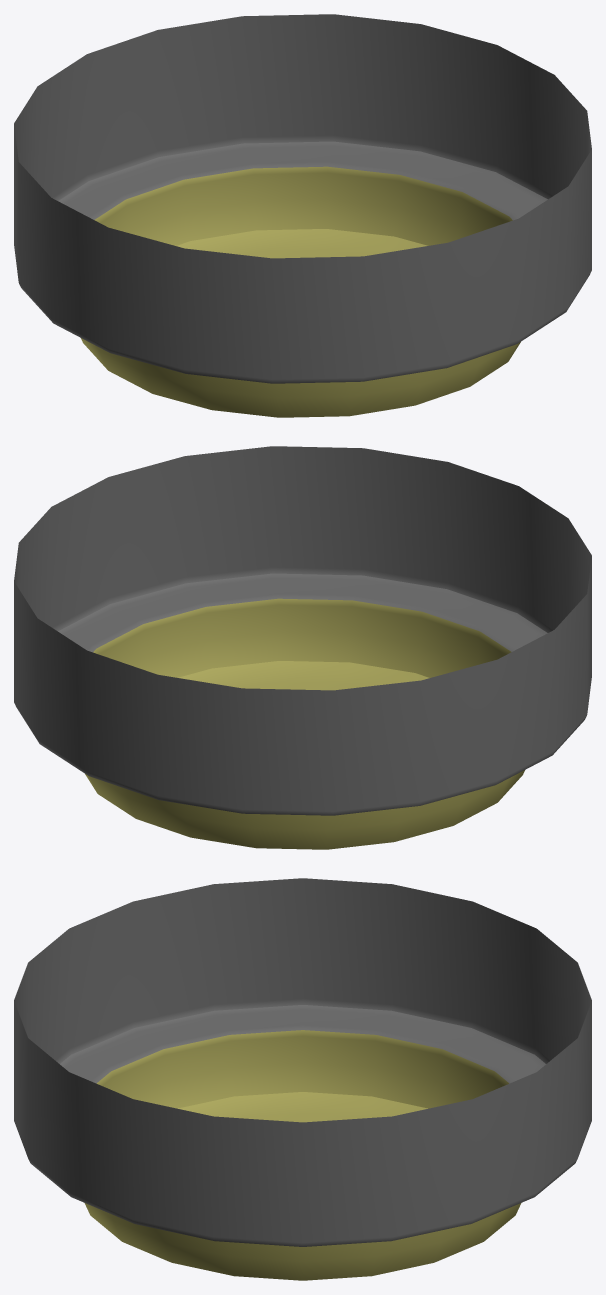
File: ceiling_light01.fbx
3 renders of one model, top to bottom at view 1: azimuth 30°, elevation 25°; view 2: azimuth 150°, elevation 25°; view 3: azimuth 270°, elevation 25°, orthographic.
Parts seen in each view (by area): view 1: ceiling_light01; view 2: ceiling_light01; view 3: ceiling_light01.
Part boxes in pixels (x1,y1,x2,y2): ceiling_light01: [14, 14, 591, 417]; ceiling_light01: [14, 446, 591, 849]; ceiling_light01: [14, 878, 591, 1280].
Bounding box in the file's own units: 29.39 × 10.99 × 29.39.
